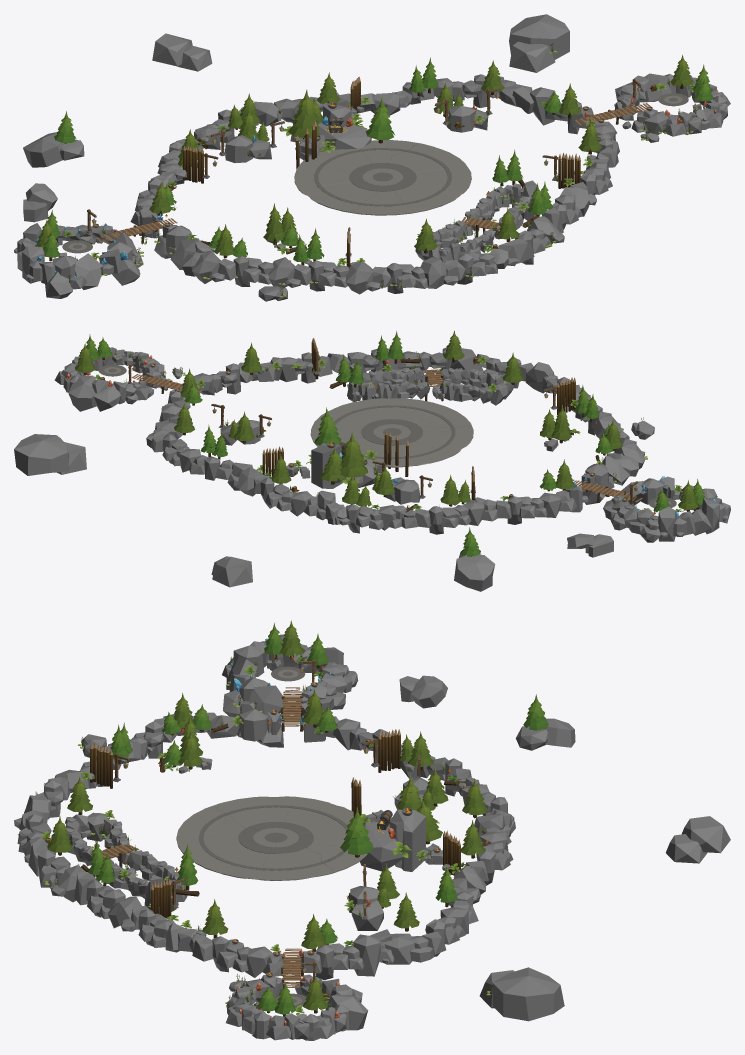
Rendered from ZenithObject4.fbx.
3 renders of one model, top to bottom at view 1: azimuth 30°, elevation 25°; view 2: azimuth 150°, elevation 25°; view 3: azimuth 270°, elevation 25°, orthographic. The views are drawn at different scales.
Visible parts, largest first — view 1: Arena_01, Rock_05__2__2, Rock_02__2__2, Rock_05_2, Rock_02_2, Rock_04__24_, Tree_02__13_, Tree_01__16_, Rock_02__69_, Rock_05__5_, Rock_05__22_, Rock_05__24_ (+13 smaller); view 2: Arena_01, Rock_05__2__2, Rock_05_2, Rock_02_2, Rock_03__24_, Tree_02__13_, Rock_05__8__1, Rock_05__22_, Tree_01__16_, Rock_02__2__2, Rock_04__12__1, Rock_05__6_ (+6 smaller); view 3: Arena_01, Rock_05__2__2, Rock_03__24_, Rock_04__24_, Rock_02_2, Tree_01__16_, Rock_05__1__2, Rock_01__20_, Rock_02__1__2, Rock_05__3_, Rock_05__8__1, Rock_02__65_ (+3 smaller).
Boxes of the visible parts, x1,y1,x2,y2 form: Arena_01: [294, 140, 471, 215]; Rock_05__2__2: [509, 14, 569, 59]; Rock_02__2__2: [509, 41, 555, 72]; Rock_05_2: [23, 132, 64, 167]; Rock_02_2: [152, 33, 192, 66]; Rock_04__24_: [318, 122, 371, 149]; Tree_02__13_: [288, 89, 319, 138]; Tree_01__16_: [365, 97, 394, 143]; Rock_02__69_: [74, 253, 102, 289]; Rock_05__5_: [345, 261, 373, 294]; Rock_05__22_: [225, 135, 252, 162]; Rock_05__24_: [446, 106, 476, 132]; Arena_01: [310, 398, 473, 467]; Rock_05__2__2: [14, 434, 68, 475]; Rock_05_2: [454, 554, 495, 591]; Rock_02_2: [212, 556, 252, 587]; Rock_03__24_: [311, 443, 342, 488]; Tree_02__13_: [339, 432, 368, 477]; Rock_05__8__1: [68, 375, 96, 411]; Rock_05__22_: [394, 479, 420, 504]; Tree_01__16_: [314, 407, 341, 445]; Rock_02__2__2: [56, 442, 86, 474]; Rock_04__12__1: [658, 506, 676, 541]; Rock_05__6_: [525, 362, 554, 393]; Arena_01: [176, 796, 367, 880]; Rock_05__2__2: [492, 967, 564, 1021]; Rock_03__24_: [389, 809, 425, 871]; Rock_04__24_: [360, 822, 403, 871]; Rock_02_2: [682, 816, 730, 853]; Tree_01__16_: [340, 806, 373, 857]; Rock_05__1__2: [411, 675, 447, 708]; Rock_01__20_: [353, 934, 380, 976]; Rock_02__1__2: [665, 834, 707, 863]; Rock_05__3_: [239, 708, 268, 741]; Rock_05__8__1: [325, 994, 368, 1030]; Rock_02__65_: [249, 685, 283, 714].
Size of the model in its own units: 13441 by 1405 by 10501.
1 material, 1 textured.
